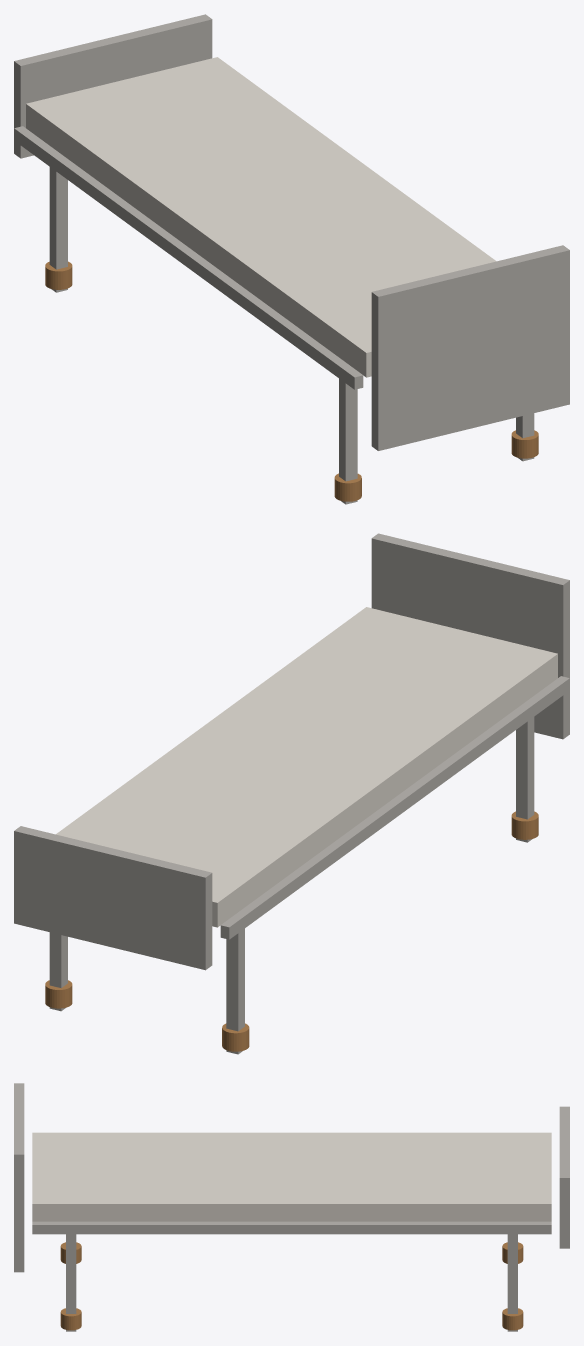
Rendered from prop_stretcher.fbx.
The picture shows the model from 3 angles, top to bottom: view 1: azimuth 30°, elevation 25°; view 2: azimuth 150°, elevation 25°; view 3: azimuth 270°, elevation 25°; orthographic projection. The views are drawn at different scales.
Parts seen in each view (by area): view 1: S_Top, S_Head, S_Foot, S_Frame_-0.35, S_Leg-0.3-0.85, S_Leg-0.30.85, S_Caster0.3-0.85, S_Caster-0.3-0.85, S_Caster-0.30.85; view 2: S_Top, S_Foot, S_Head, S_Frame_-0.35, S_Leg-0.30.85, S_Leg-0.3-0.85, S_Leg0.30.85, S_Caster-0.30.85, S_Caster0.30.85, S_Caster-0.3-0.85; view 3: S_Top, S_Frame_0.35, S_Head, S_Foot, S_Leg0.3-0.85, S_Leg0.30.85, S_Caster0.3-0.85, S_Caster0.30.85.
Part boxes in pixels (x1,y1,x2,y2): S_Top: (26,57,496,377); S_Head: (371,245,569,450); S_Foot: (14,14,212,158); S_Frame_-0.35: (14,126,363,389); S_Leg-0.3-0.85: (339,378,357,504); S_Leg-0.30.85: (49,167,67,292); S_Caster0.3-0.85: (511,430,538,458); S_Caster-0.3-0.85: (334,473,361,501); S_Caster-0.30.85: (45,261,72,289); S_Top: (56,607,557,927); S_Foot: (14,826,212,970); S_Head: (371,533,569,739); S_Frame_-0.35: (220,676,569,939); S_Leg-0.30.85: (226,928,244,1054); S_Leg-0.3-0.85: (516,717,534,842); S_Leg0.30.85: (49,932,67,1011); S_Caster-0.30.85: (222,1023,249,1051); S_Caster0.30.85: (45,980,72,1008); S_Caster-0.3-0.85: (511,811,538,839); S_Top: (32,1132,551,1221); S_Frame_0.35: (32,1221,551,1234); S_Head: (14,1083,24,1272); S_Foot: (559,1106,569,1248); S_Leg0.3-0.85: (66,1234,76,1331); S_Leg0.30.85: (507,1234,517,1331); S_Caster0.3-0.85: (60,1308,81,1330); S_Caster0.30.85: (502,1308,523,1330).
Size of the model in its own units: 73 by 75.5 by 214.
